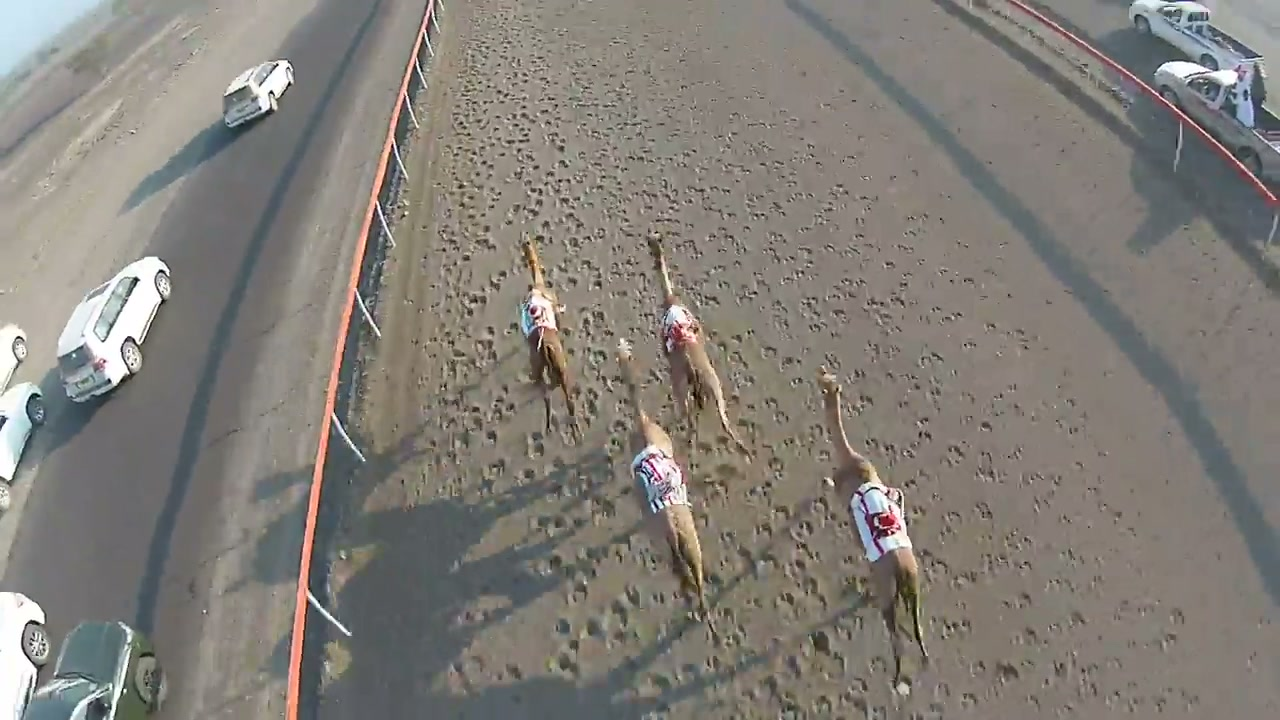animal_footprint: (604, 100, 870, 713), (742, 154, 1035, 704), (450, 78, 649, 682)
